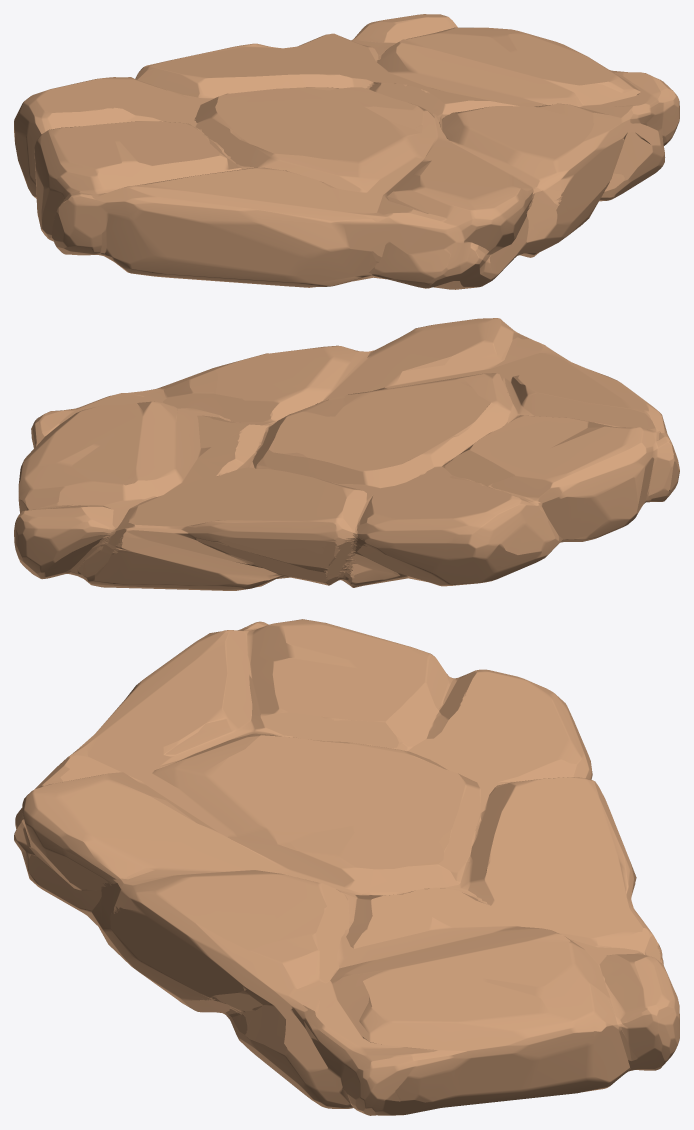
3 renders of one model, top to bottom at view 1: azimuth 30°, elevation 25°; view 2: azimuth 150°, elevation 25°; view 3: azimuth 270°, elevation 25°, orthographic. The views are drawn at different scales.
Parts seen in each view (by area): view 1: Mesh_34_LOD0; view 2: Mesh_34_LOD0; view 3: Mesh_34_LOD0.
Part boxes in pixels (x1,y1,x2,y2): Mesh_34_LOD0: (14,14,679,289); Mesh_34_LOD0: (14,318,679,590); Mesh_34_LOD0: (14,619,679,1115).
Size of what is drawn, in the model's own units: 3402 by 810 by 2681.
